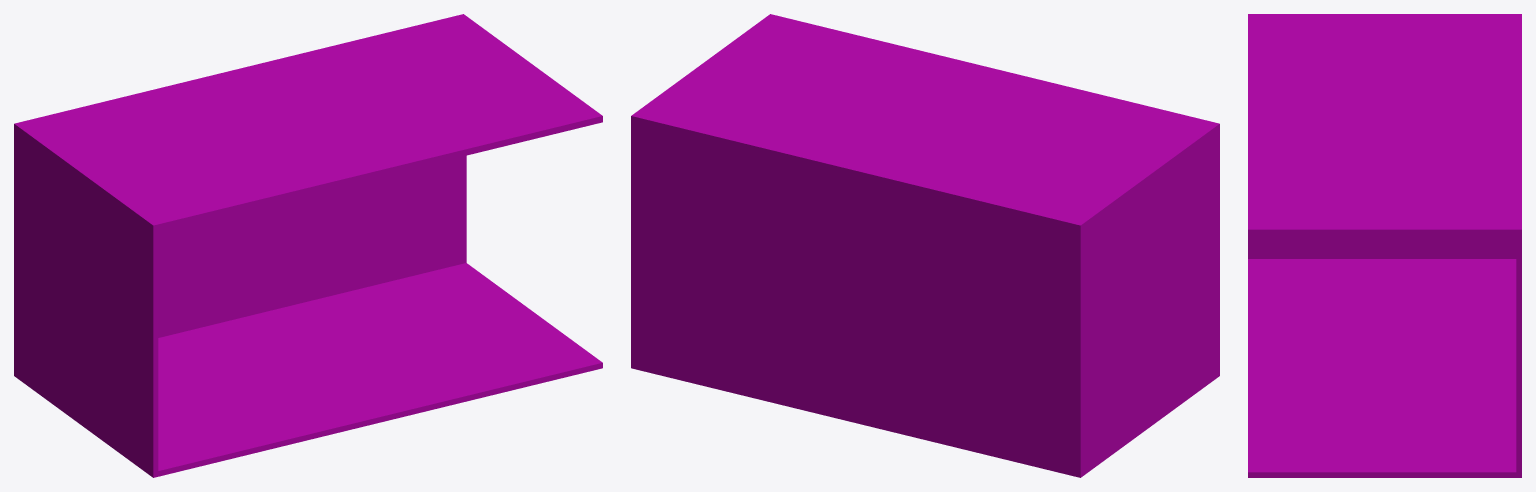
File: Ship_First_01.fbx
3 views of the same model, side by side, from view 1: azimuth 30°, elevation 25°; view 2: azimuth 150°, elevation 25°; view 3: azimuth 270°, elevation 25° (orthographic).
Visible parts, largest first — view 1: FirstShip; view 2: FirstShip; view 3: FirstShip.
Part boxes in pixels (box(x1,y1,x2,y2)): FirstShip: box(14, 14, 602, 477); FirstShip: box(631, 14, 1219, 477); FirstShip: box(1248, 14, 1521, 477).
Bounding box in the file's own units: 3018 × 1619 × 1619.
